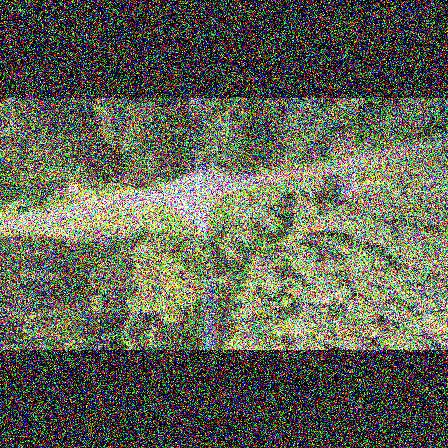Sick: (0, 113, 24, 136), (264, 315, 288, 336)
